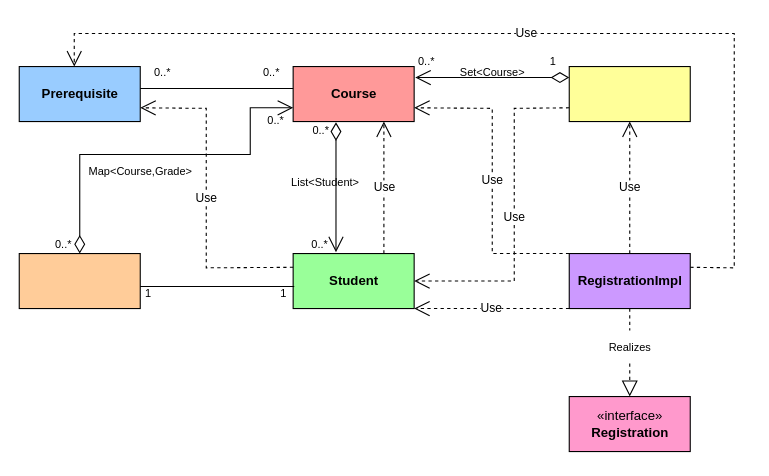
The diagram is 769 pixels wide and 476 high, and some of its shapes have lost their labels. Here are the shapes that lost their labels. From the top down, the box of each, then its label:
(568, 65, 690, 122): CourseCatalog
(18, 252, 140, 309): Transcript
